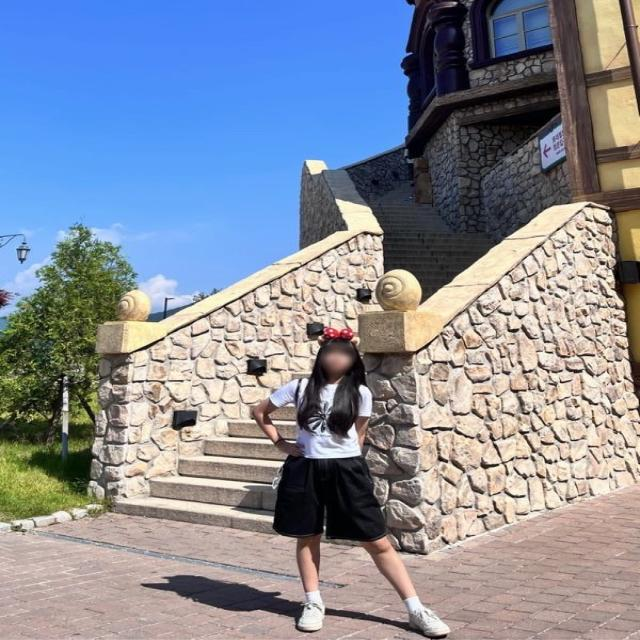shortpants: (274, 453, 386, 544)
shortsleeve: (268, 374, 379, 462)
